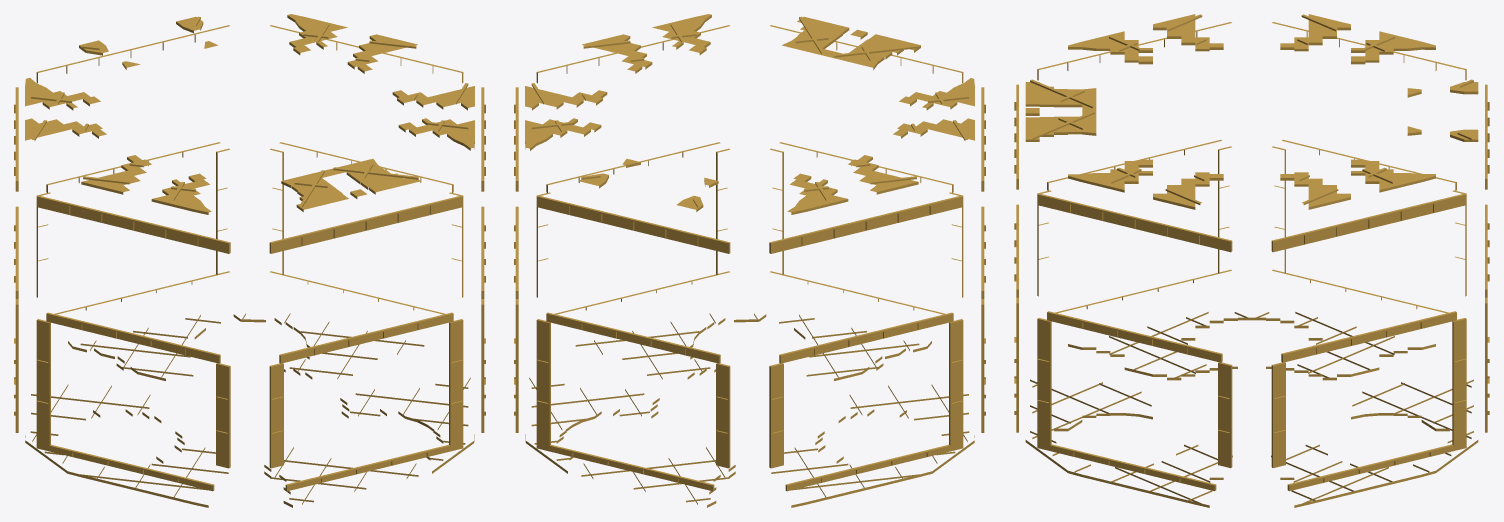
The model's file is thermal_insulation__asteroid.glb.
3 views of the same model, side by side, from view 1: azimuth 30°, elevation 25°; view 2: azimuth 150°, elevation 25°; view 3: azimuth 270°, elevation 25° (orthographic).
Visible parts, largest first — view 1: mli_sides; view 2: mli_sides; view 3: mli_sides.
Part boxes in pixels (x1,y1,x2,y2): mli_sides: (14, 14, 485, 507); mli_sides: (514, 14, 985, 507); mli_sides: (1014, 14, 1489, 507).
Size of the model in its own units: 1.46 by 0.9261 by 1.33.
